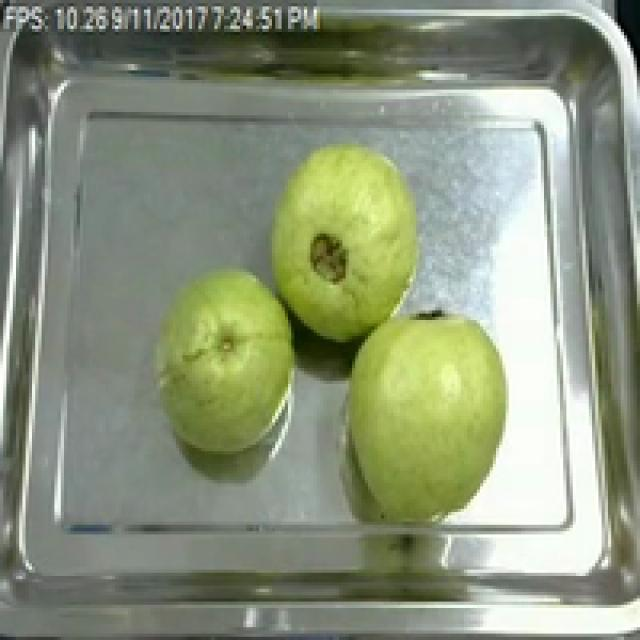Fruit: (336, 301, 518, 525), (259, 131, 432, 352), (138, 259, 307, 461)
